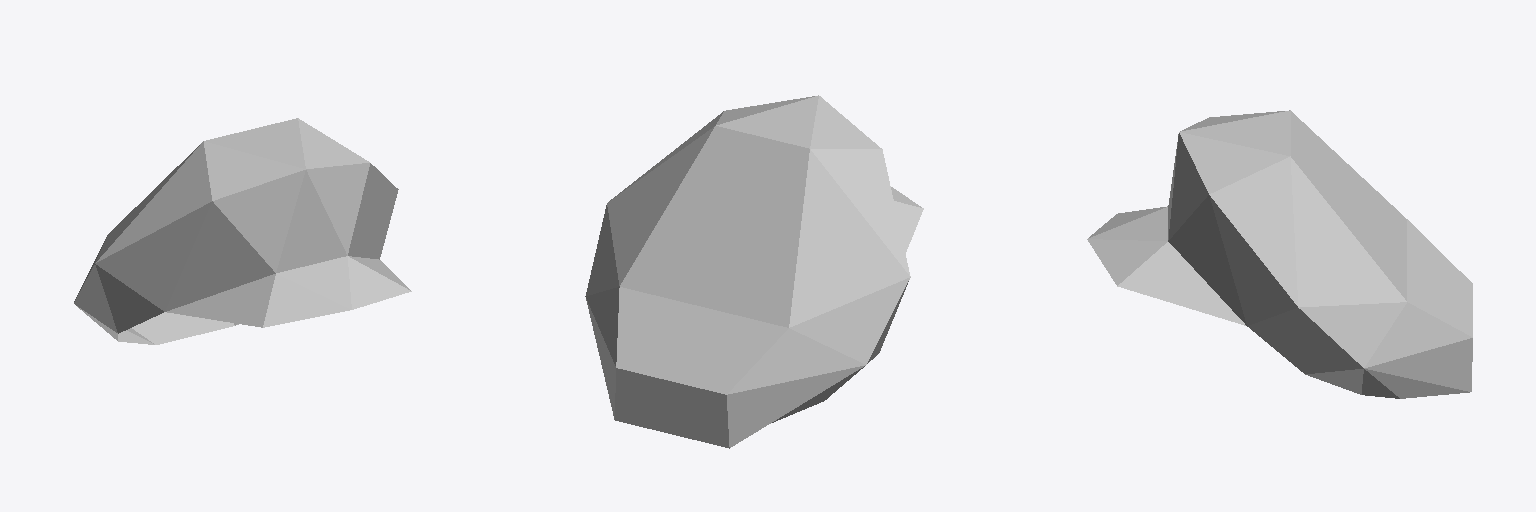
Rendered from LxndrwCapOnly.obj.
3 renders of one model, left to right at view 1: azimuth 30°, elevation 25°; view 2: azimuth 150°, elevation 25°; view 3: azimuth 270°, elevation 25°, orthographic.
Visible parts, largest first — view 1: mario_cap_on; view 2: mario_cap_on; view 3: mario_cap_on.
Part boxes in pixels (x1,y1,x2,y2): mario_cap_on: (74, 118, 411, 344); mario_cap_on: (585, 95, 923, 448); mario_cap_on: (1087, 110, 1472, 398).
Bounding box in the file's own units: 66.75 × 52 × 73.5.